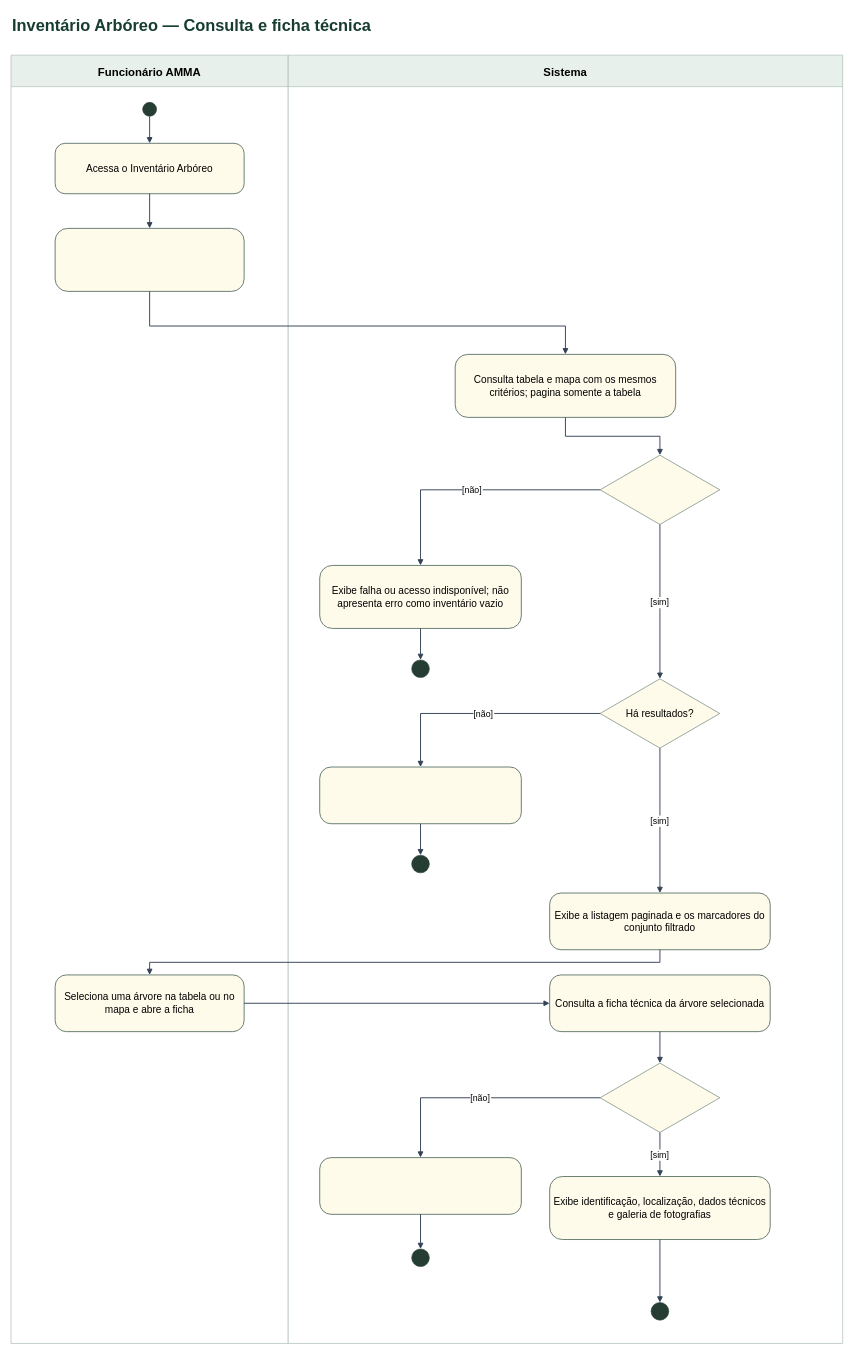
The diagram is 854 pixels wide and 1355 high, and some of its shapes have lost their labels. The shapes that lost their labels are listed below. From the top down, each one's centre as x and y in pixels, then its label:
At (149,260): "Usa os critérios iniciais ou informa pesquisa e filtros".
At (659,489): "Consulta concluída?".
At (420,795): "Informa que não há árvores para os critérios aplicados".
At (659,1097): "Ficha disponível?".
At (420,1186): "Distingue árvore não encontrada, acesso negado e falha de consulta".
